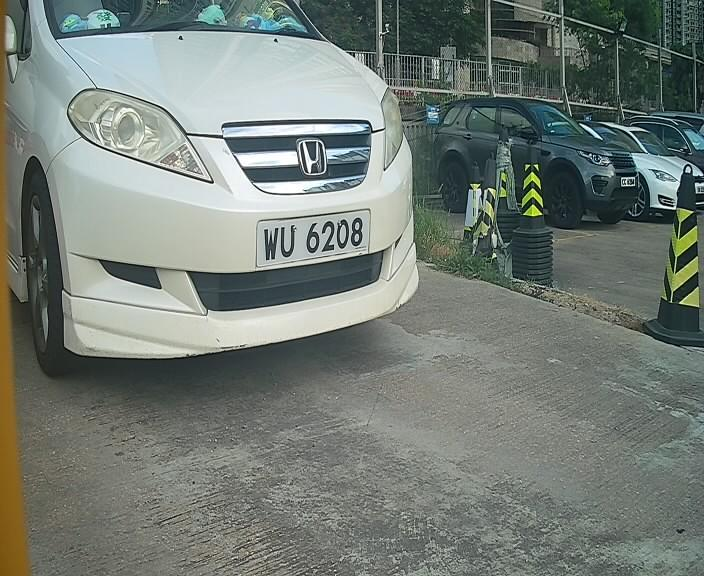privatecar: (10, 1, 444, 379)
